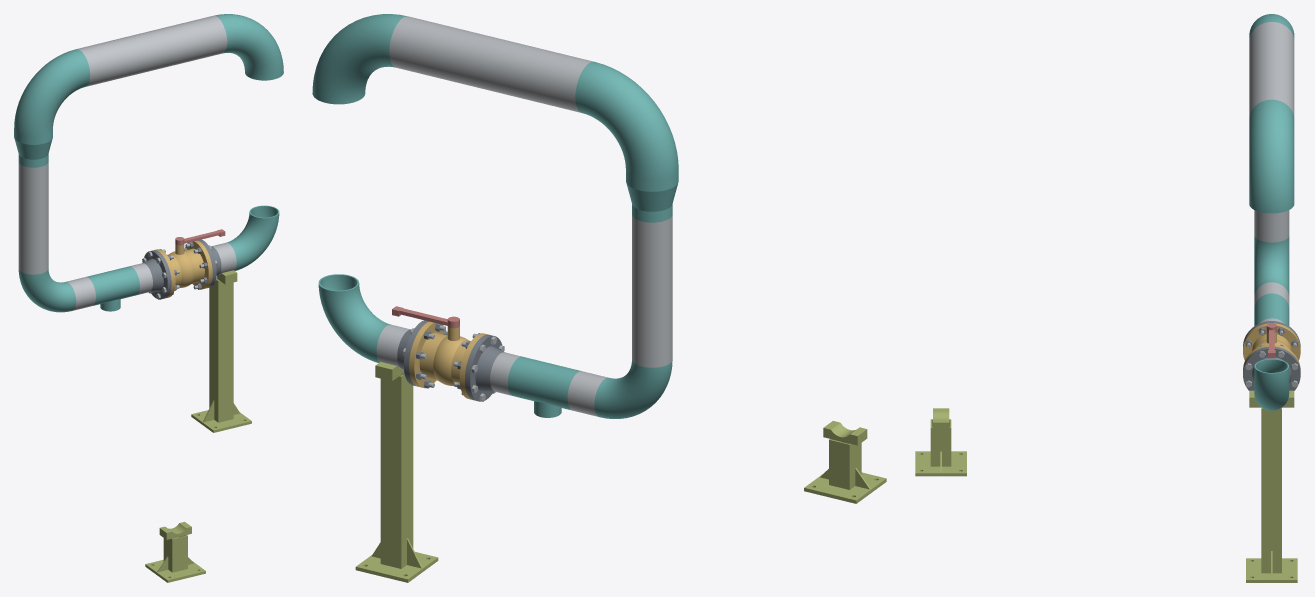
Rendered from step_75.glb.
3 renders of one model, left to right at view 1: azimuth 30°, elevation 25°; view 2: azimuth 150°, elevation 25°; view 3: azimuth 270°, elevation 25°, orthographic. The views are drawn at different scales.
Parts seen in each view (by area): view 1: part__8" pipe, top run, 890 long, part__pipe support SP-101, tall, part__8" elbow top left, part__6" pipe, left riser, 664 long, part__8" elbow top right, part__pipe support SP-101, short, part__6" elbow bottom right, part__6" ball valve body BV-101, part__6" elbow bottom left, part__6" x 4" reducing tee, part__reducer left riser, part__6" flange, ball valve inlet (+4 smaller); view 2: part__8" pipe, top run, 890 long, part__pipe support SP-101, tall, part__8" elbow top left, part__6" pipe, left riser, 664 long, part__8" elbow top right, part__pipe support SP-101, short, part__6" elbow bottom right, part__6" ball valve body BV-101, part__6" elbow bottom left, part__6" x 4" reducing tee, part__reducer left riser, part__6" flange, ball valve inlet (+3 smaller); view 3: part__8" elbow top right, part__pipe support SP-101, tall, part__8" pipe, top run, 890 long, part__pipe support SP-101, short, part__6" elbow bottom right, part__6" elbow bottom left, part__6" ball valve body BV-101, part__6" pipe, left riser, 664 long, part__6" flange, ball valve outlet, part__6" x 4" reducing tee.
Boxes of the visible parts, bbox=[...] form: part__8" pipe, top run, 890 long: bbox=[76, 15, 227, 86]; part__pipe support SP-101, tall: bbox=[191, 270, 251, 432]; part__8" elbow top left: bbox=[14, 49, 90, 136]; part__6" pipe, left riser, 664 long: bbox=[18, 162, 48, 274]; part__8" elbow top right: bbox=[214, 14, 283, 80]; part__pipe support SP-101, short: bbox=[145, 521, 205, 582]; part__6" elbow bottom right: bbox=[227, 205, 279, 270]; part__6" ball valve body BV-101: bbox=[154, 240, 212, 298]; part__6" elbow bottom left: bbox=[18, 269, 76, 312]; part__6" x 4" reducing tee: bbox=[86, 266, 139, 311]; part__reducer left riser: bbox=[14, 129, 52, 167]; part__6" flange, ball valve inlet: bbox=[143, 250, 171, 299]; part__8" pipe, top run, 890 long: bbox=[389, 16, 592, 112]; part__pipe support SP-101, tall: bbox=[355, 362, 438, 582]; part__8" elbow top left: bbox=[575, 61, 678, 180]; part__6" pipe, left riser, 664 long: bbox=[632, 215, 672, 367]; part__8" elbow top right: bbox=[312, 14, 406, 104]; part__pipe support SP-101, short: bbox=[804, 421, 886, 503]; part__6" elbow bottom right: bbox=[318, 274, 390, 362]; part__6" ball valve body BV-101: bbox=[409, 321, 487, 399]; part__6" elbow bottom left: bbox=[594, 360, 672, 418]; part__6" x 4" reducing tee: bbox=[507, 356, 581, 417]; part__reducer left riser: bbox=[626, 171, 678, 222]; part__6" flange, ball valve inlet: bbox=[465, 334, 504, 401]; part__8" elbow top right: bbox=[1249, 99, 1294, 213]; part__pipe support SP-101, tall: bbox=[1246, 390, 1297, 582]; part__8" pipe, top run, 890 long: bbox=[1249, 22, 1294, 116]; part__pipe support SP-101, short: bbox=[915, 408, 966, 476]; part__6" elbow bottom right: bbox=[1254, 359, 1289, 410]; part__6" elbow bottom left: bbox=[1254, 236, 1289, 296]; part__6" ball valve body BV-101: bbox=[1243, 323, 1300, 369]; part__6" pipe, left riser, 664 long: bbox=[1254, 210, 1289, 242]; part__6" flange, ball valve outlet: bbox=[1243, 346, 1300, 390]; part__6" x 4" reducing tee: bbox=[1254, 293, 1289, 325].
Bounding box in the file's own units: 1734 × 2510 × 1865.
